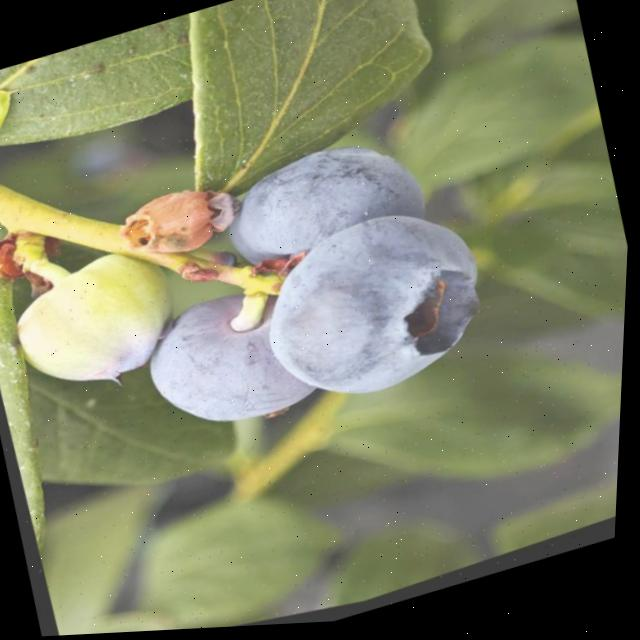RipeBlueBerry: (237, 179, 516, 446)
UnripeBlueBerry: (0, 228, 198, 420)
